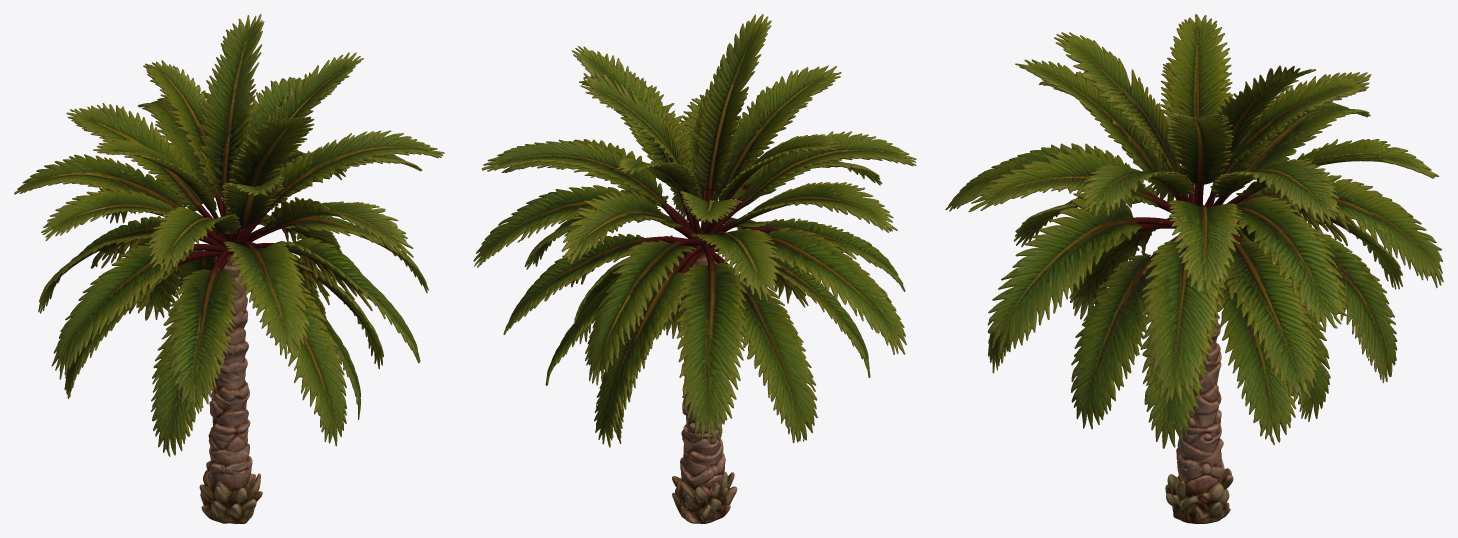
File: palmera1.glb
3 views of the same model, side by side, from view 1: azimuth 30°, elevation 25°; view 2: azimuth 150°, elevation 25°; view 3: azimuth 270°, elevation 25° (orthographic). The views are drawn at different scales.
Parts seen in each view (by area): view 1: tripo_node_615eebf8-6ae0-43f9-aa3d-c77f955e532f; view 2: tripo_node_615eebf8-6ae0-43f9-aa3d-c77f955e532f; view 3: tripo_node_615eebf8-6ae0-43f9-aa3d-c77f955e532f.
Boxes of the visible parts, x1,y1,x2,y2 form: tripo_node_615eebf8-6ae0-43f9-aa3d-c77f955e532f: [14, 14, 444, 523]; tripo_node_615eebf8-6ae0-43f9-aa3d-c77f955e532f: [473, 14, 916, 523]; tripo_node_615eebf8-6ae0-43f9-aa3d-c77f955e532f: [945, 14, 1443, 523].
Bounding box in the file's own units: 0.8879 × 1 × 0.9222.
Materials: 1 (1 with a texture image).
